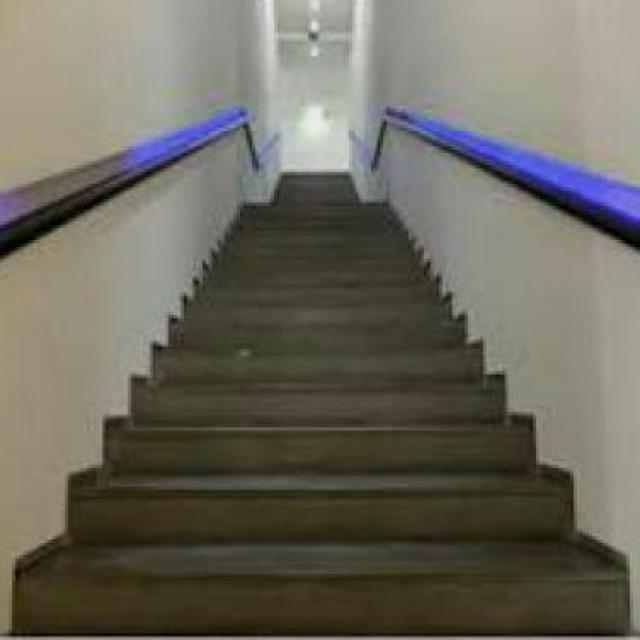stair: (44, 334, 599, 606)
